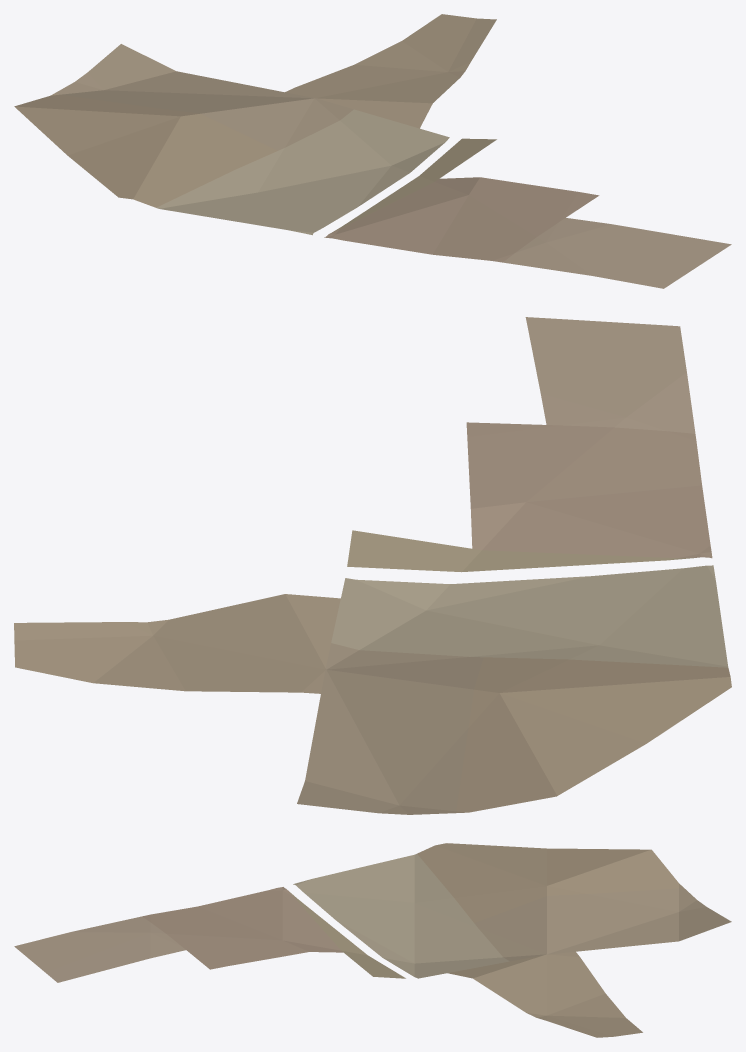
File: farm_10_16_soil.glb
The picture shows the model from 3 angles, top to bottom: view 1: azimuth 30°, elevation 25°; view 2: azimuth 150°, elevation 25°; view 3: azimuth 270°, elevation 25°; orthographic projection. The views are drawn at different scales.
Visible parts, largest first — view 1: geometry_0; view 2: geometry_0; view 3: geometry_0.
Part boxes in pixels (left/top/right/bottom): geometry_0: left=14, top=14, right=731, bottom=288; geometry_0: left=14, top=317, right=731, bottom=814; geometry_0: left=14, top=843, right=731, bottom=1037.
Bounding box in the file's own units: 279 × 26.67 × 435.
